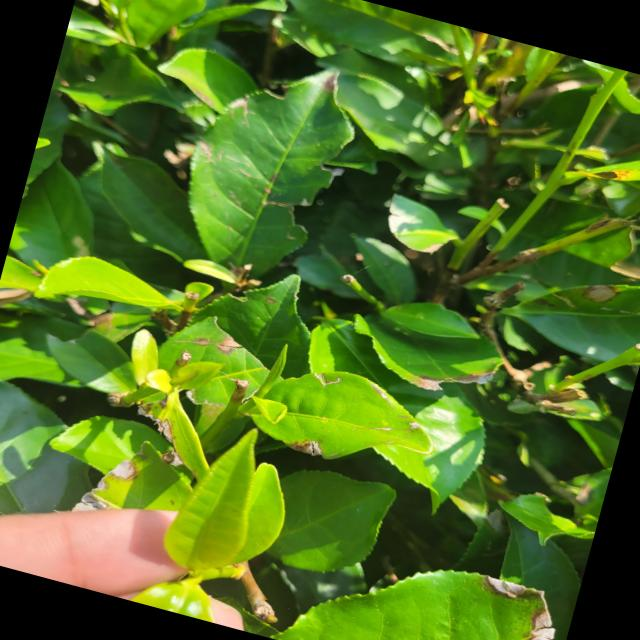Catagory A(1-2 days): (126, 394, 316, 603)
